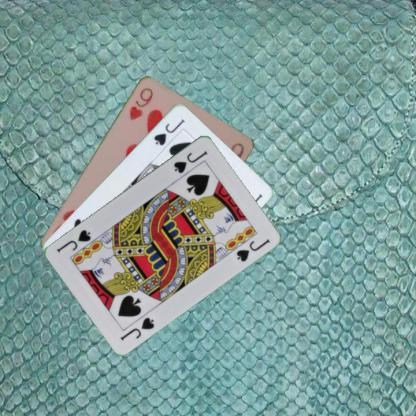9h: (127, 84, 154, 122)
Js: (117, 314, 156, 342), (150, 116, 186, 146), (171, 148, 209, 174)
